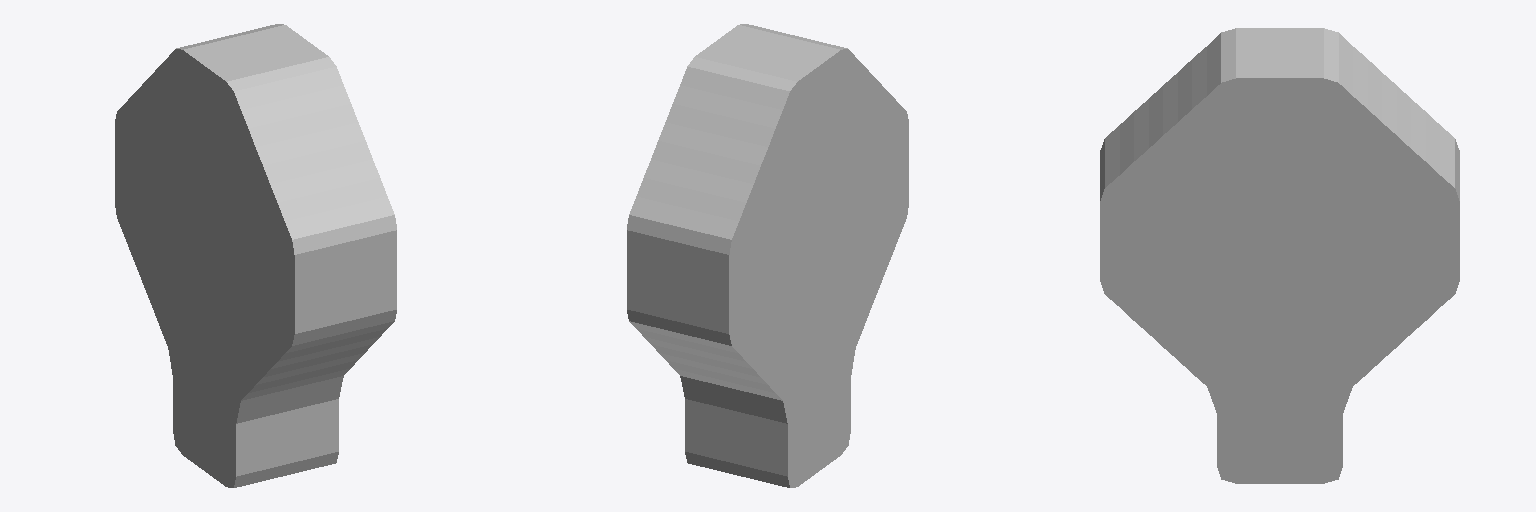
Rendered from lightshape.obj.
3 views of the same model, side by side, from view 1: azimuth 30°, elevation 25°; view 2: azimuth 150°, elevation 25°; view 3: azimuth 270°, elevation 25° (orthographic).
Visible parts, largest first — view 1: Plane; view 2: Plane; view 3: Plane.
Boxes of the visible parts, <box> form: Plane: <box>115,24,396,487</box>; Plane: <box>627,24,908,487</box>; Plane: <box>1100,28,1459,483</box>.
Size of the model in its own units: 0.5092 by 1.92 by 1.54.